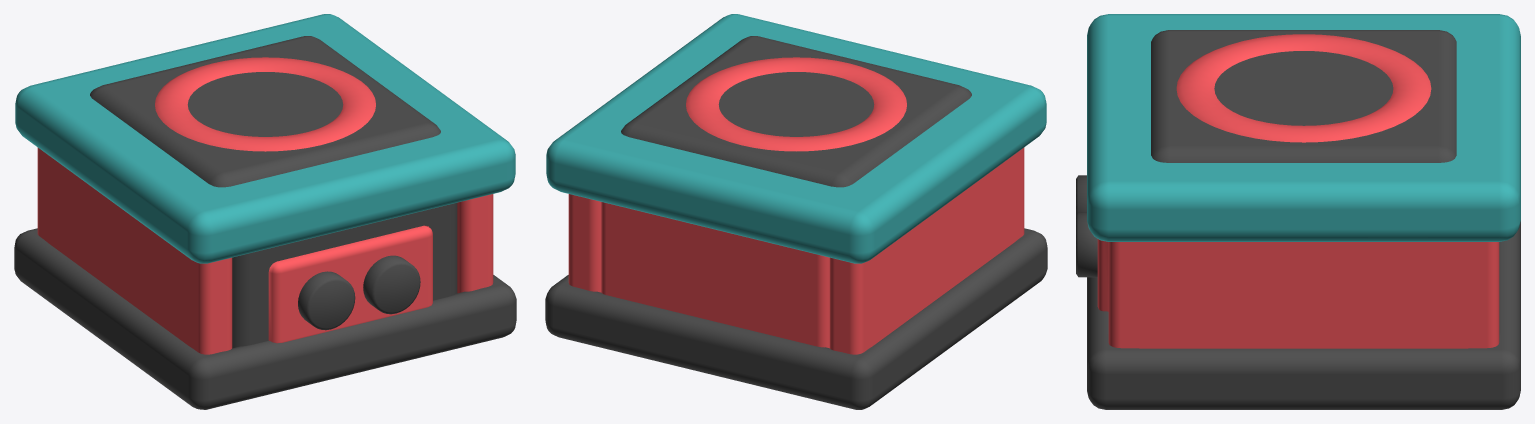
The model's file is StoveStation.fbx.
3 renders of one model, left to right at view 1: azimuth 30°, elevation 25°; view 2: azimuth 150°, elevation 25°; view 3: azimuth 270°, elevation 25°, orthographic. The views are drawn at different scales.
Visible parts, largest first — view 1: StoveStation; view 2: StoveStation; view 3: StoveStation.
Part boxes in pixels (left/top/right/bottom): StoveStation: left=14, top=14, right=516, bottom=409; StoveStation: left=545, top=14, right=1047, bottom=409; StoveStation: left=1076, top=14, right=1520, bottom=409.
Bounding box in the file's own units: 200 × 122 × 205.
